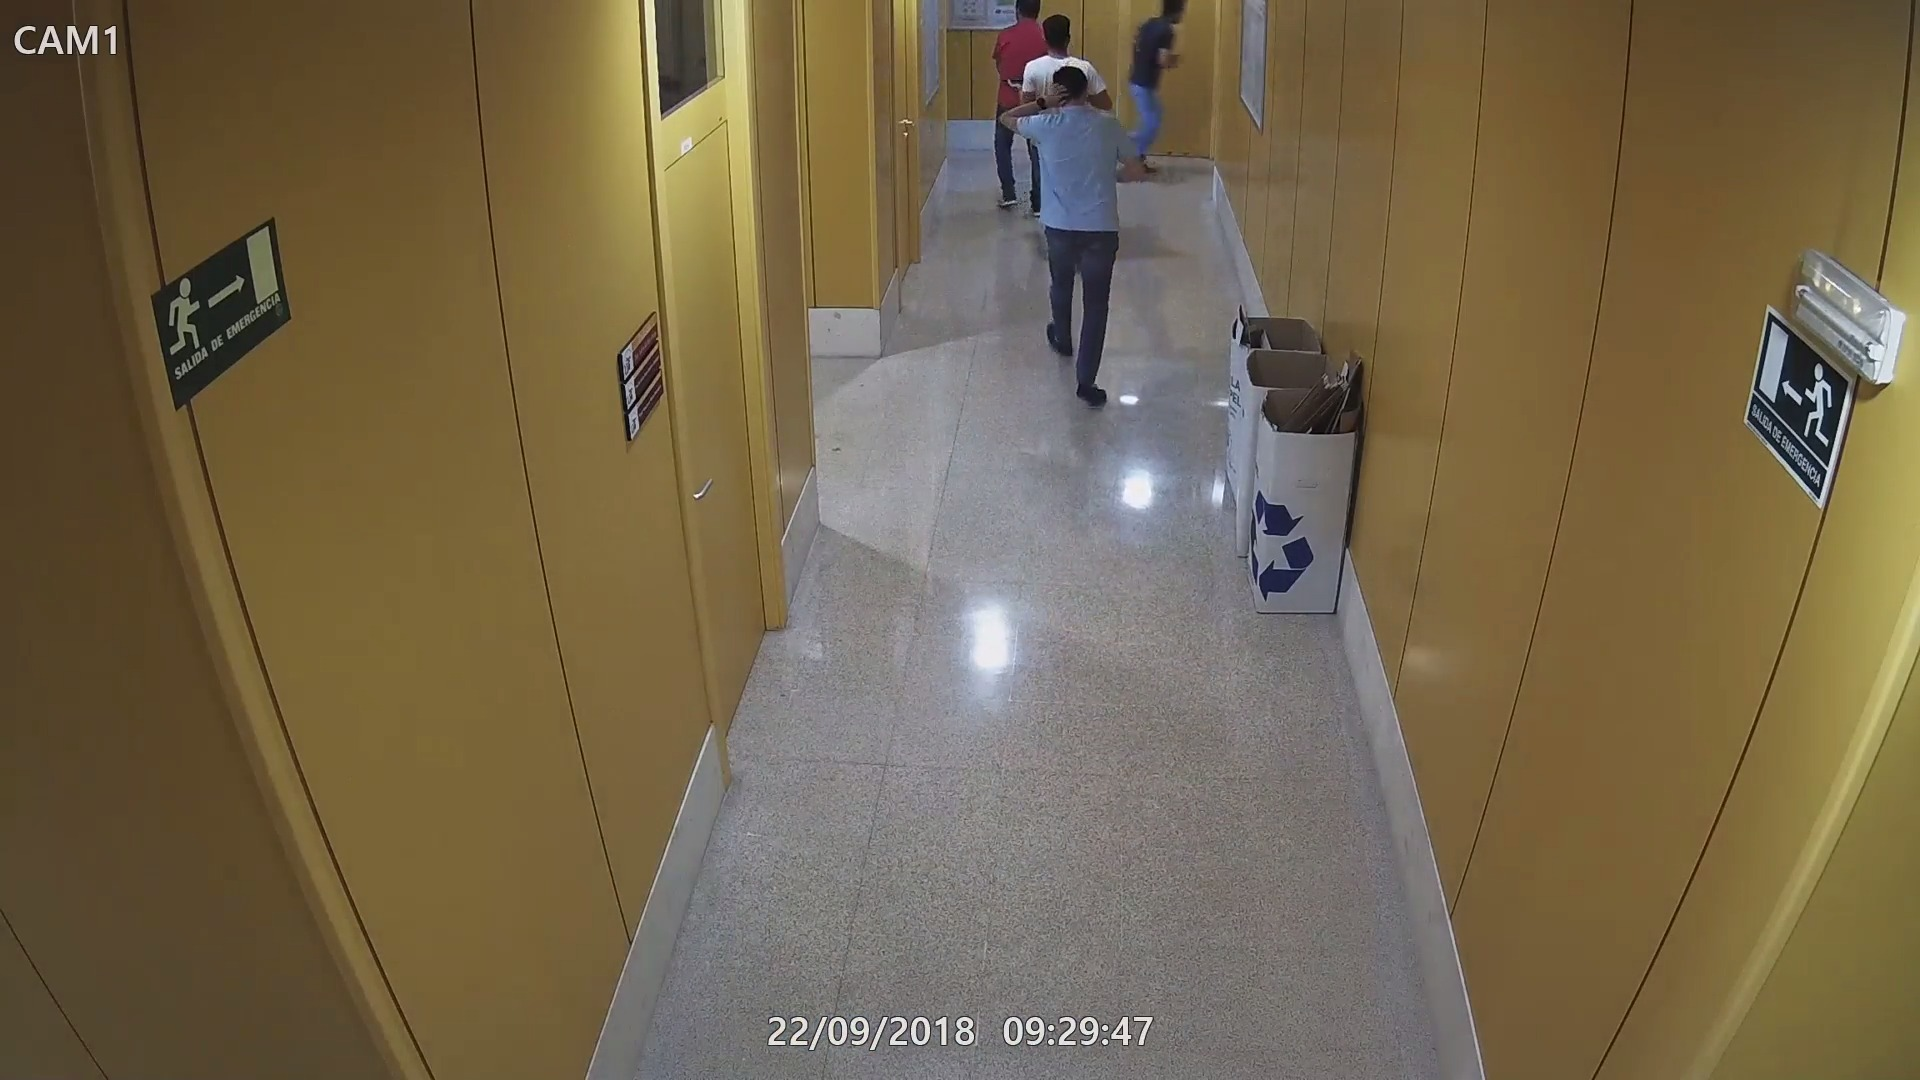Short_rifle: (1004, 71, 1031, 98)
